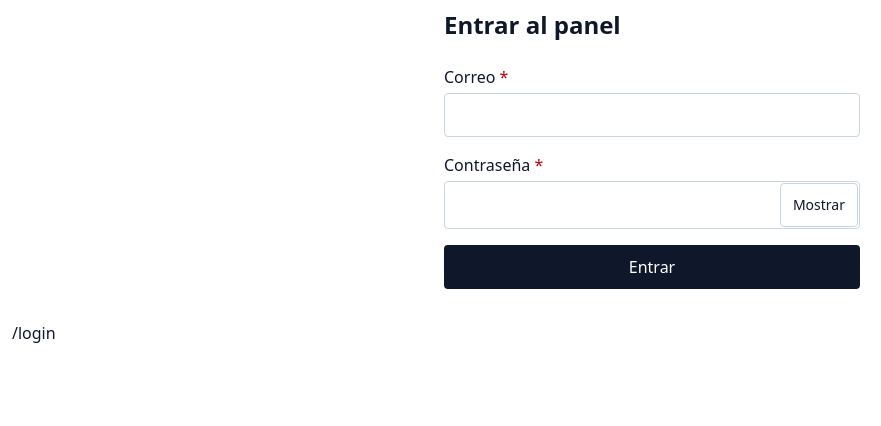
Test case: LoginPage › con un correo inexistente muestra el error genérico
The width and height of the screenshot is (881, 426).
Type "noexiste@ejemplo.com" into the field labelled "Correo *" at (652, 115), box [444, 93, 860, 137]
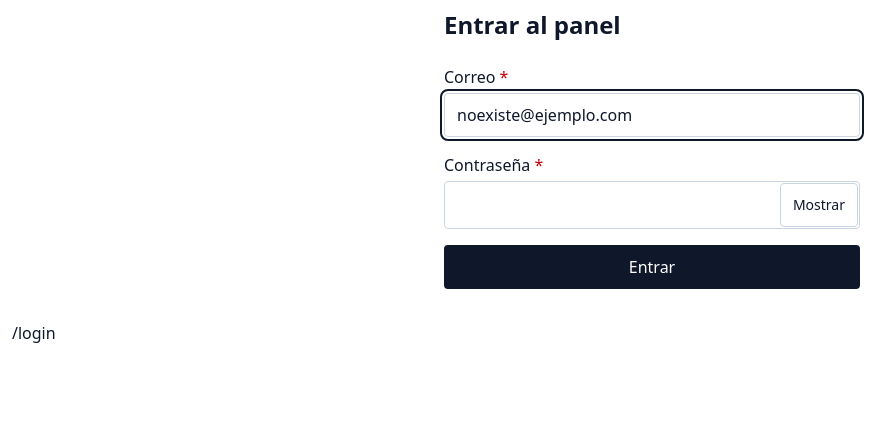
Type "loquesea" into the password field labelled "Contraseña *" at (652, 205), box [444, 181, 860, 229]
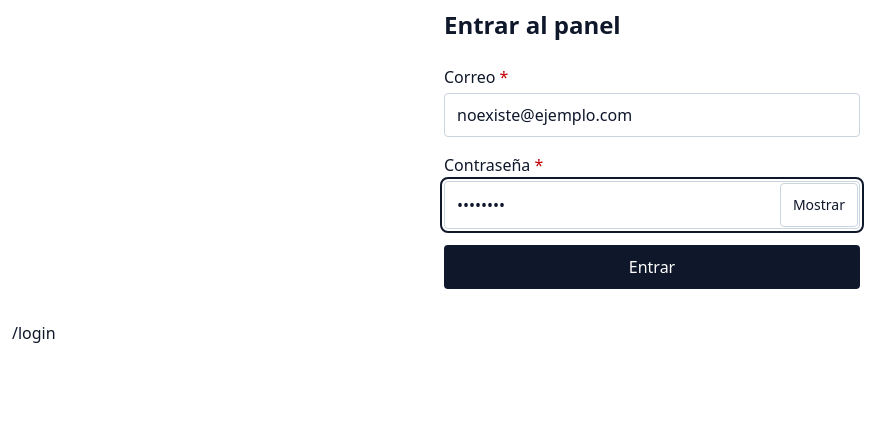
Click the button "Entrar" at (652, 267), box [444, 245, 860, 289]
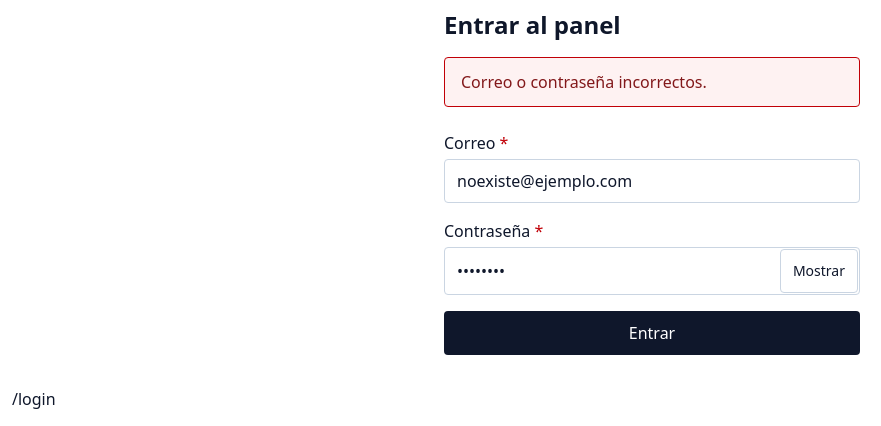
Expected: the message reads "Correo o contraseña incorrectos.", [461, 71, 707, 93]
